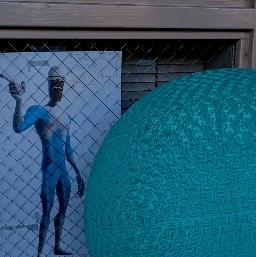algae: (81, 67, 256, 257)
